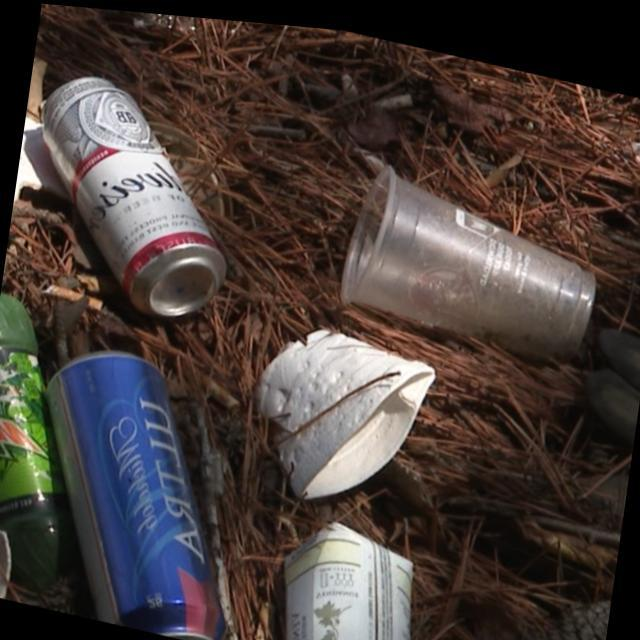clothes: (7, 28, 252, 339), (12, 326, 246, 640)
leaf: (320, 142, 626, 360), (0, 297, 119, 605), (451, 168, 489, 207)
trash: (241, 306, 454, 524), (268, 500, 444, 640)
